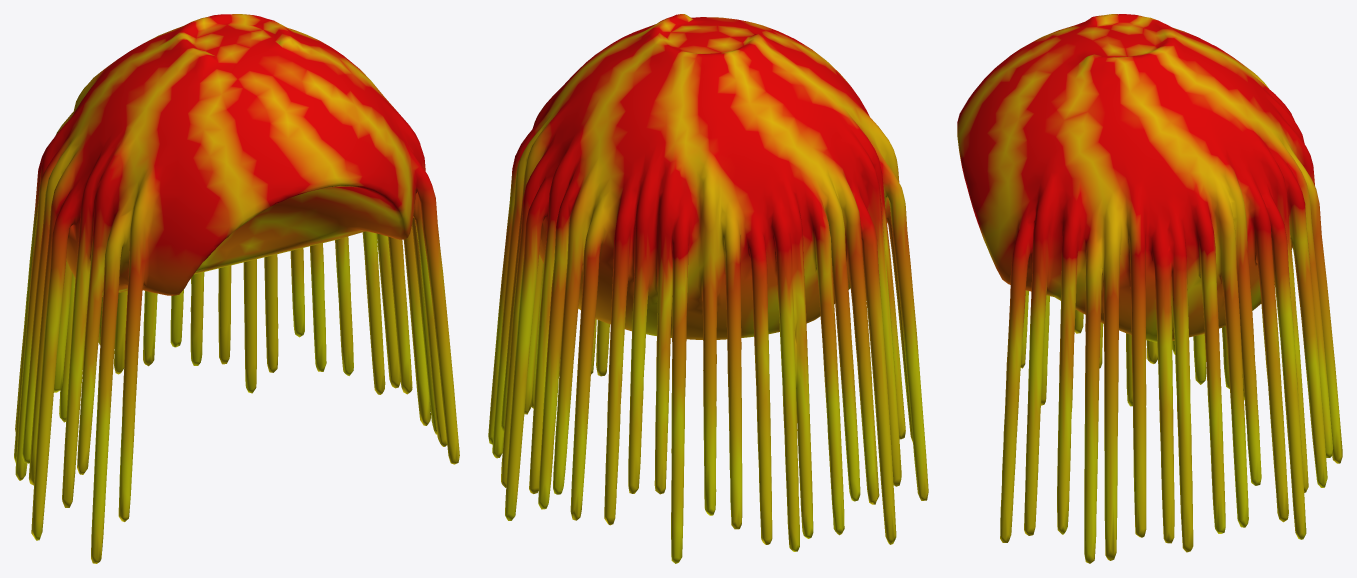
File: box-braids.glb
3 renders of one model, left to right at view 1: azimuth 30°, elevation 25°; view 2: azimuth 150°, elevation 25°; view 3: azimuth 270°, elevation 25°, orthographic.
Visible parts, largest first — view 1: part; view 2: part; view 3: part.
Part boxes in pixels (left/top/right/bottom): part: left=14, top=14, right=459, bottom=563; part: left=488, top=14, right=928, bottom=563; part: left=957, top=14, right=1342, bottom=563.
Bounding box in the file's own units: 2.61 × 2.96 × 2.23.
